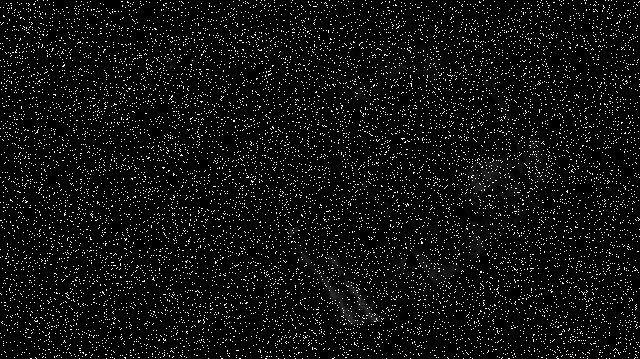pot: (396, 68, 506, 176)
